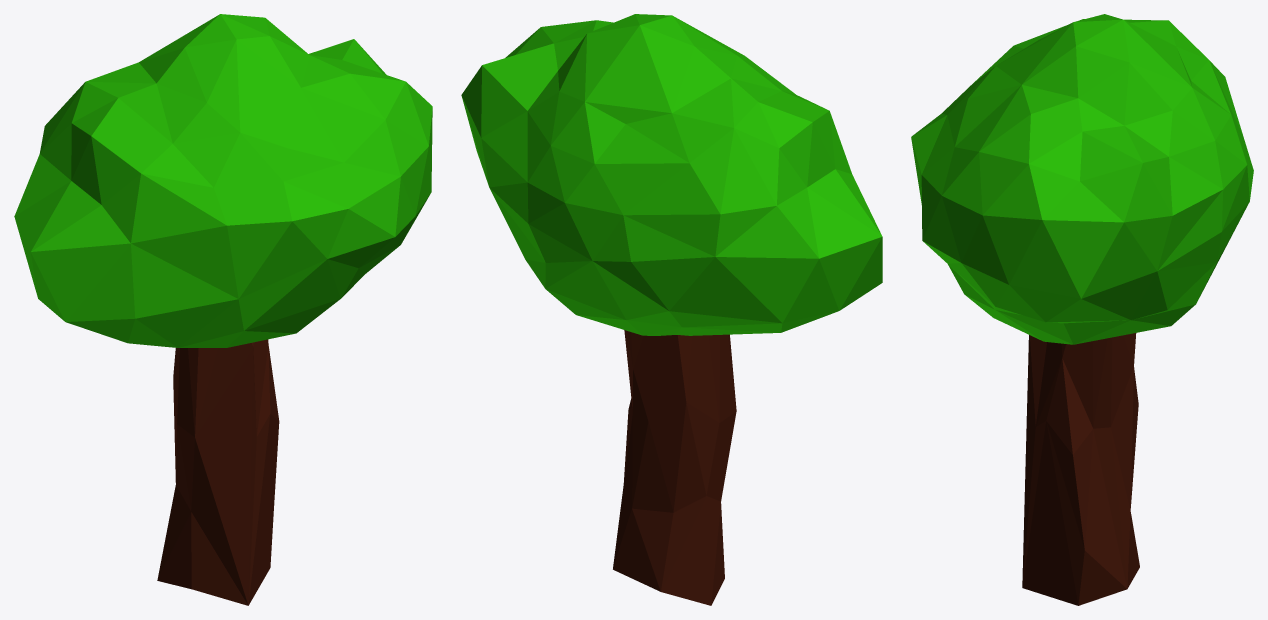
The model's file is tree_1.fbx.
3 renders of one model, left to right at view 1: azimuth 30°, elevation 25°; view 2: azimuth 150°, elevation 25°; view 3: azimuth 270°, elevation 25°, orthographic. The views are drawn at different scales.
Visible parts, largest first — view 1: Icosphere; view 2: Icosphere; view 3: Icosphere.
Boxes of the visible parts, x1=… form: Icosphere: x1=14, y1=14, x2=432, y2=605; Icosphere: x1=461, y1=14, x2=882, y2=605; Icosphere: x1=911, y1=14, x2=1253, y2=605.
Bounding box in the file's own units: 0.2482 × 0.3353 × 0.18.
